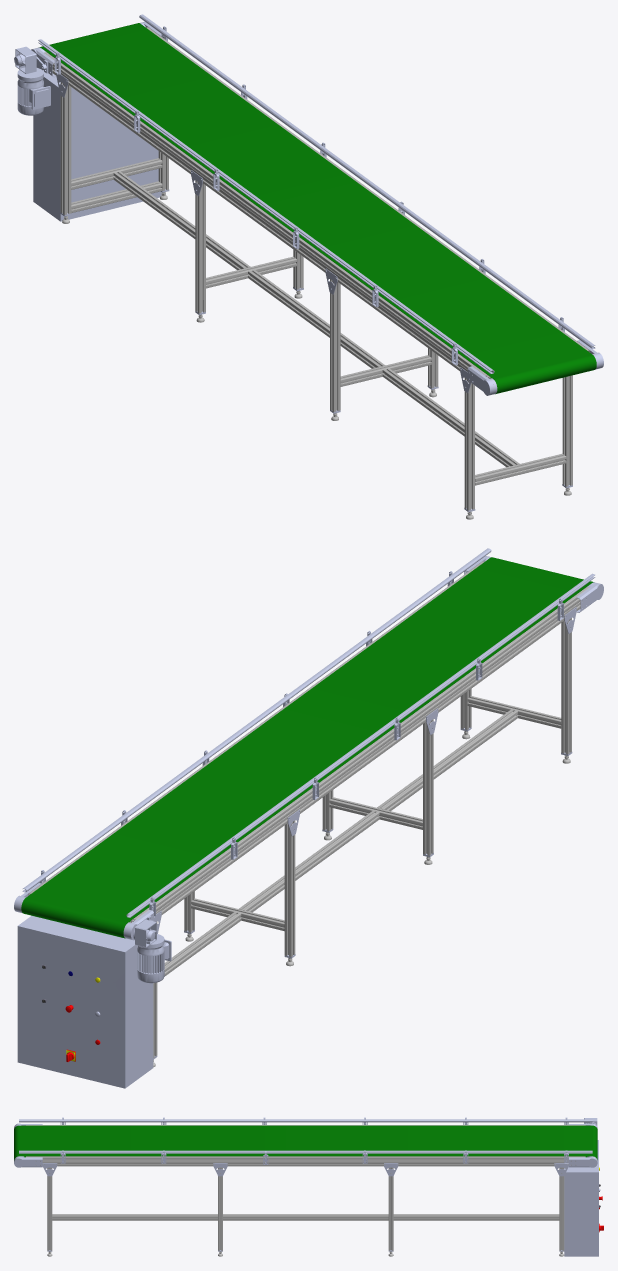
Rendered from BeltConveyor.obj.
3 views of the same model, one above another, from view 1: azimuth 30°, elevation 25°; view 2: azimuth 150°, elevation 25°; view 3: azimuth 270°, elevation 25° (orthographic). The views are drawn at different scales.
Visible parts, largest first — view 1: Belt, Frame+Motor, Cabinet; view 2: Belt, Frame+Motor, Cabinet; view 3: Frame+Motor, Belt, Cabinet.
Boxes of the visible parts, x1=… form: Belt: x1=39, y1=23, x2=596, y2=394; Frame+Motor: x1=14, y1=14, x2=603, y2=519; Cabinet: x1=33, y1=70, x2=161, y2=221; Belt: x1=21, y1=557, x2=593, y2=938; Frame+Motor: x1=14, y1=548, x2=603, y2=1067; Cabinet: x1=17, y1=915, x2=153, y2=1088; Frame+Motor: x1=14, y1=1117, x2=597, y2=1256; Belt: x1=14, y1=1125, x2=597, y2=1159; Cabinet: x1=564, y1=1140, x2=603, y2=1256.
Bounding box in the file's own units: 0.8803 × 1.05 × 5.27.
